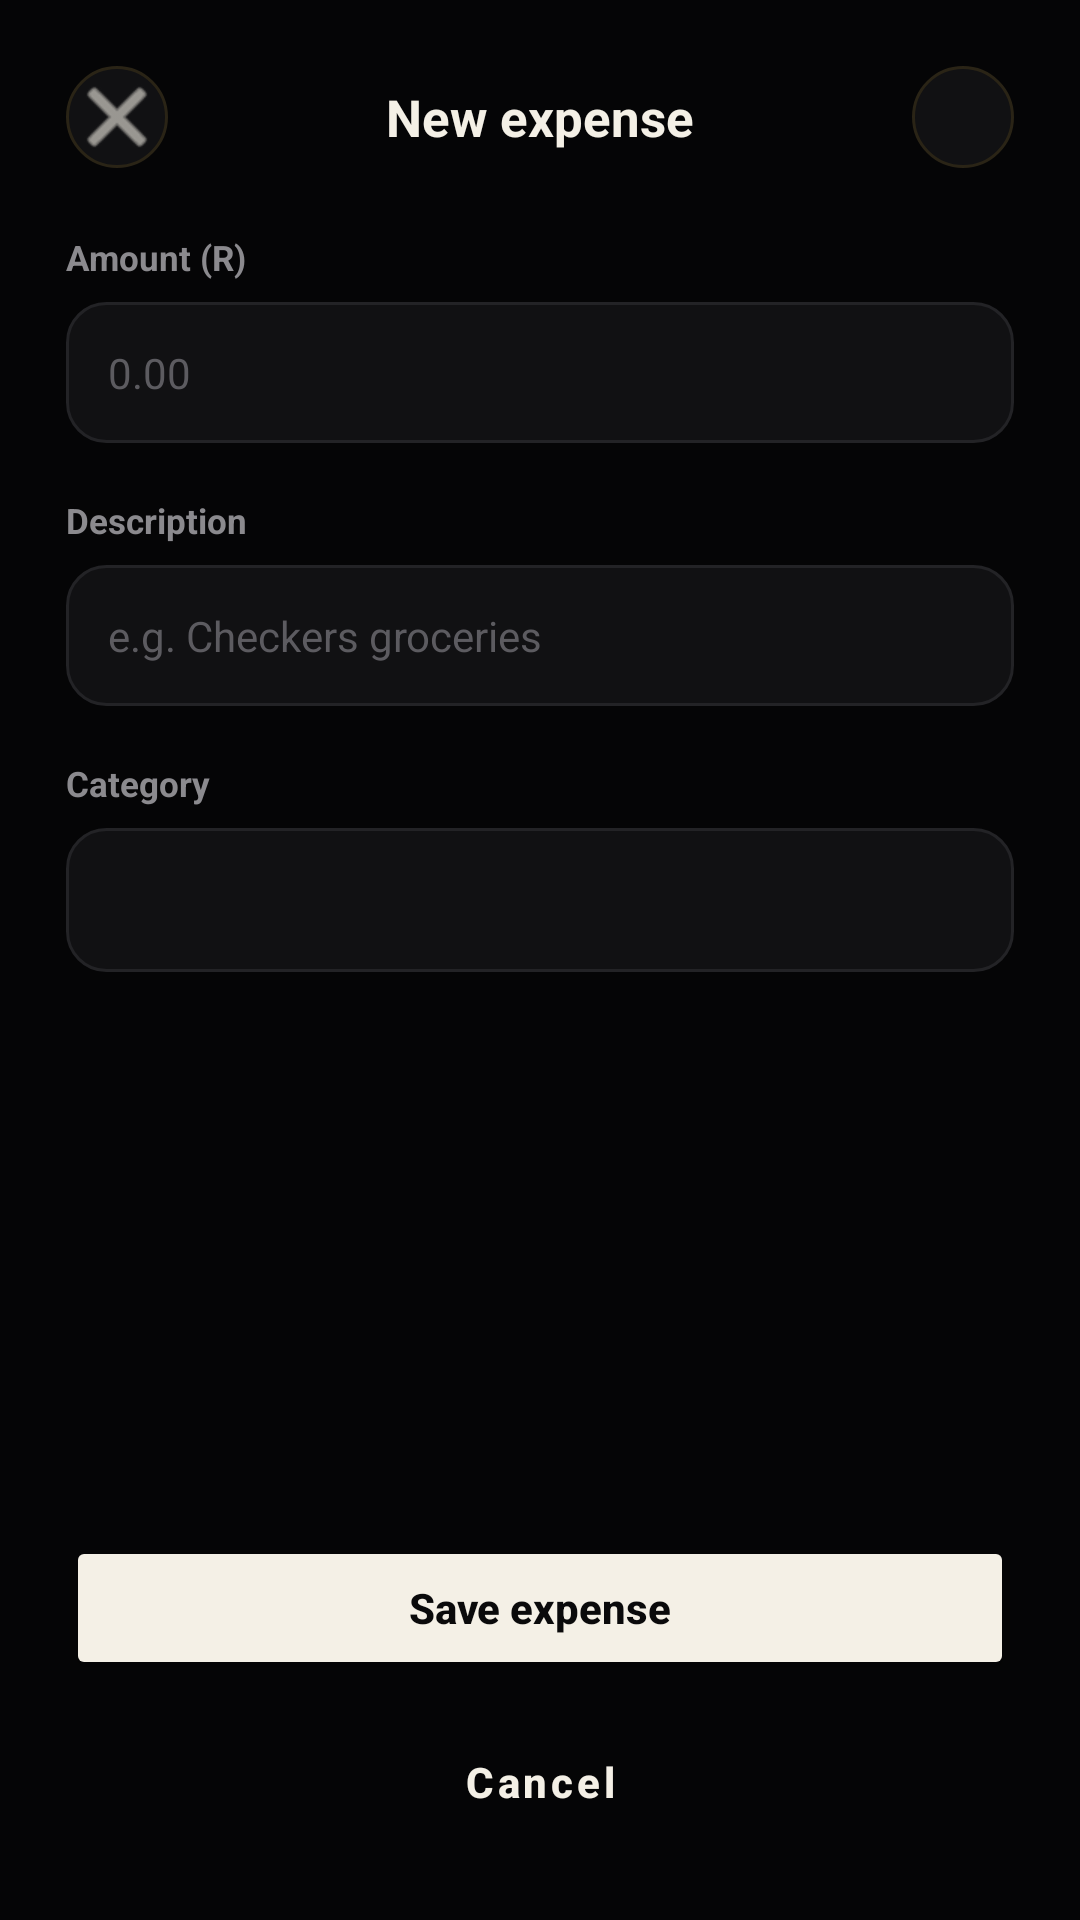

Point at icon controls on the screen. Image size 1080 × 1920, points as point (x, y).
close clear cancel: point (117, 117)
